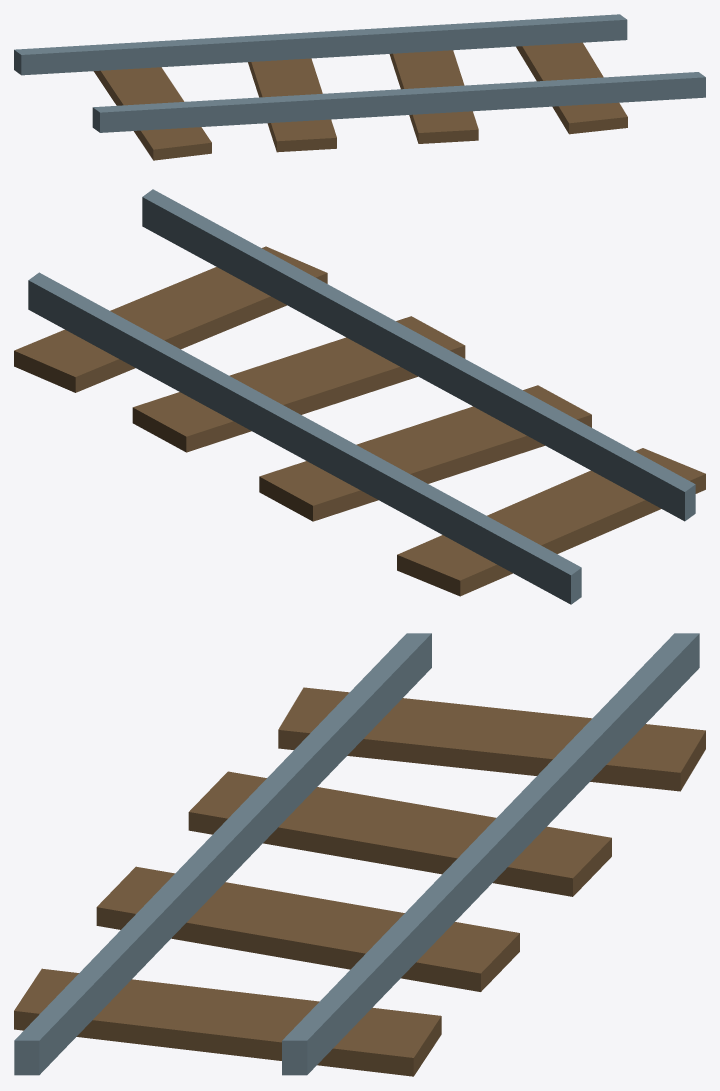
File: Rail-C01.fbx
3 renders of one model, top to bottom at view 1: azimuth 30°, elevation 25°; view 2: azimuth 150°, elevation 25°; view 3: azimuth 270°, elevation 25°, orthographic. The views are drawn at different scales.
Parts seen in each view (by area): view 1: Rail-C01; view 2: Rail-C01; view 3: Rail-C01.
Part boxes in pixels (<box>): Rail-C01: <box>14,14,705,160</box>; Rail-C01: <box>14,189,705,604</box>; Rail-C01: <box>14,633,705,1076</box>.
Size of the model in its own units: 457 by 28.05 by 328.
